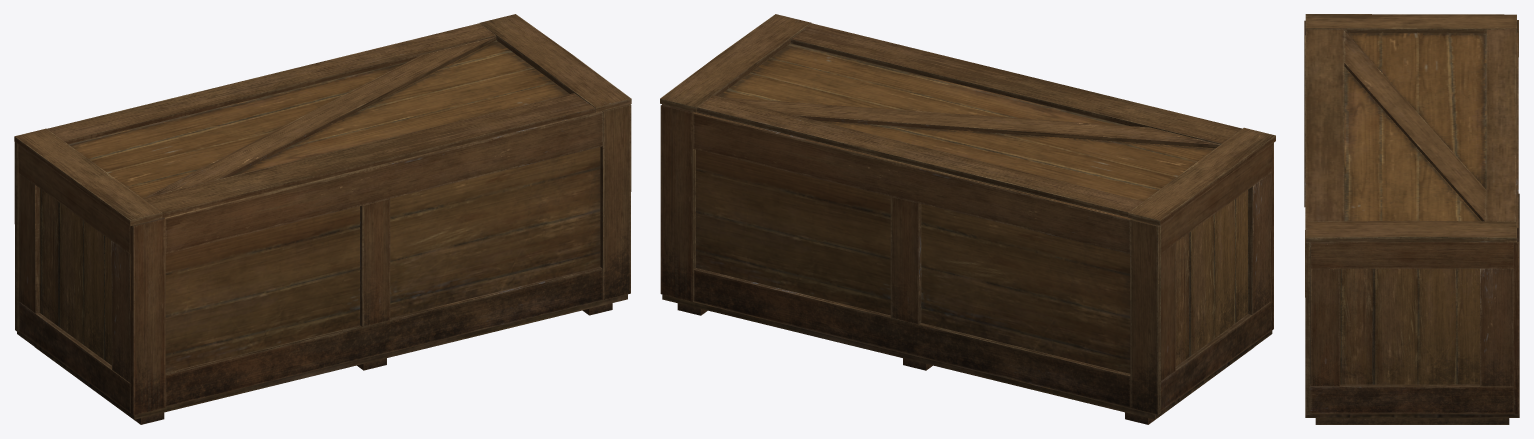
Rendered from obj_wooden_box_2_106a71.glb.
3 renders of one model, left to right at view 1: azimuth 30°, elevation 25°; view 2: azimuth 150°, elevation 25°; view 3: azimuth 270°, elevation 25°, orthographic. The views are drawn at different scales.
Visible parts, largest first — view 1: obj_wooden_box_2_106a71; view 2: obj_wooden_box_2_106a71; view 3: obj_wooden_box_2_106a71.
Boxes of the visible parts, bbox=[...] form: obj_wooden_box_2_106a71: bbox=[14, 14, 631, 424]; obj_wooden_box_2_106a71: bbox=[660, 14, 1275, 424]; obj_wooden_box_2_106a71: bbox=[1304, 14, 1519, 424].
Size of the model in its own units: 1.97 by 0.8 by 0.8034.
Materials: 1 (1 with a texture image).
